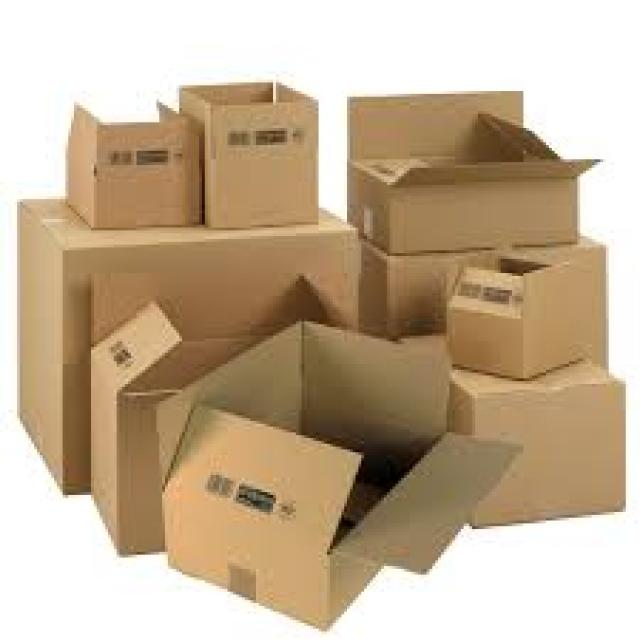cardboard: (154, 319, 518, 629), (17, 196, 358, 498), (86, 265, 345, 555), (395, 327, 623, 529), (353, 228, 606, 401), (342, 91, 595, 253), (174, 80, 319, 225), (444, 250, 597, 381), (57, 94, 199, 230)
